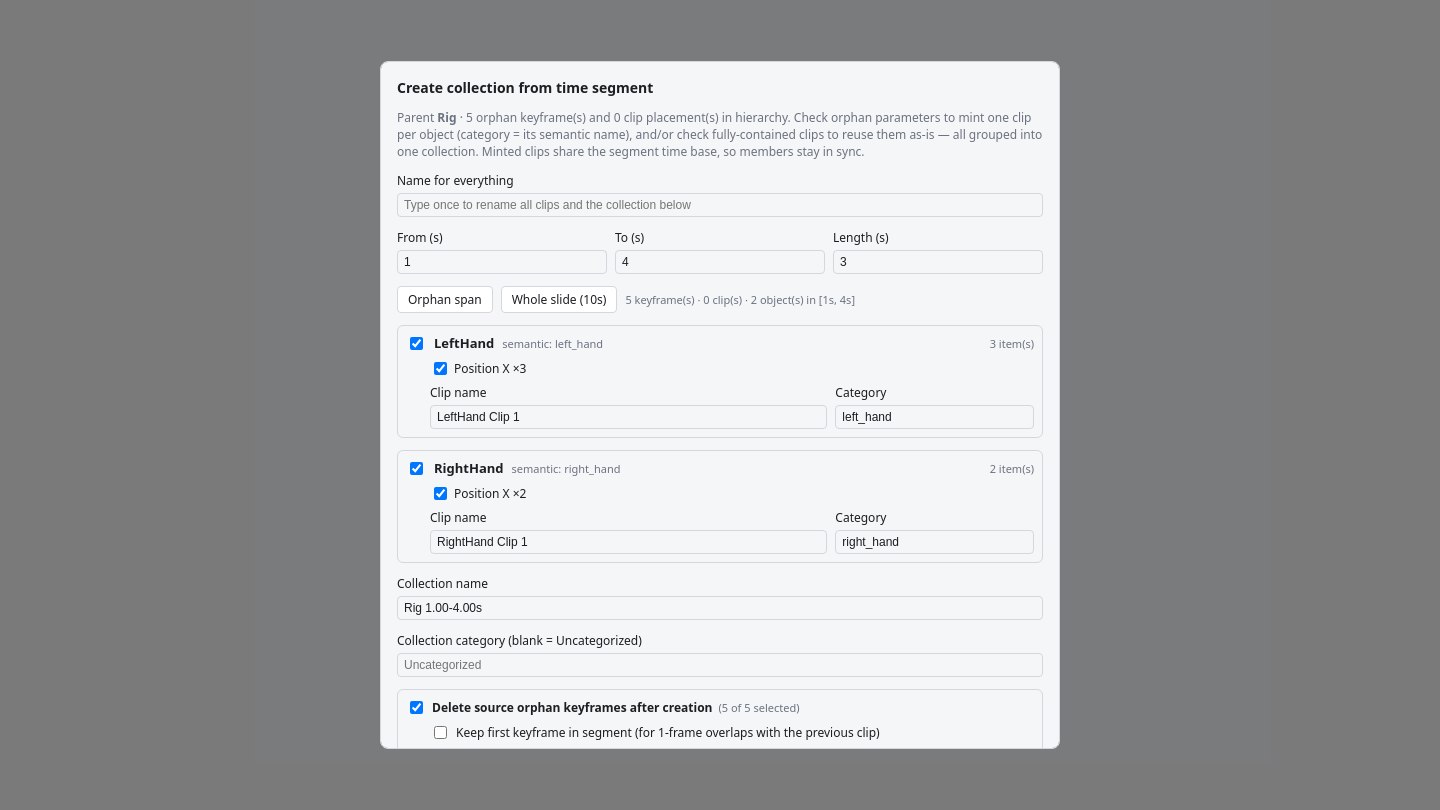
Scenario: TimeSegmentToCollectionModal › keeps From/To/Length in sync
Expected: the element with test id "segment-object-nA" is shown, [397,325,1043,438]
Replace the text in the field with test id "segment-length-input" with "1" at (938, 262), box [833,250,1043,274]
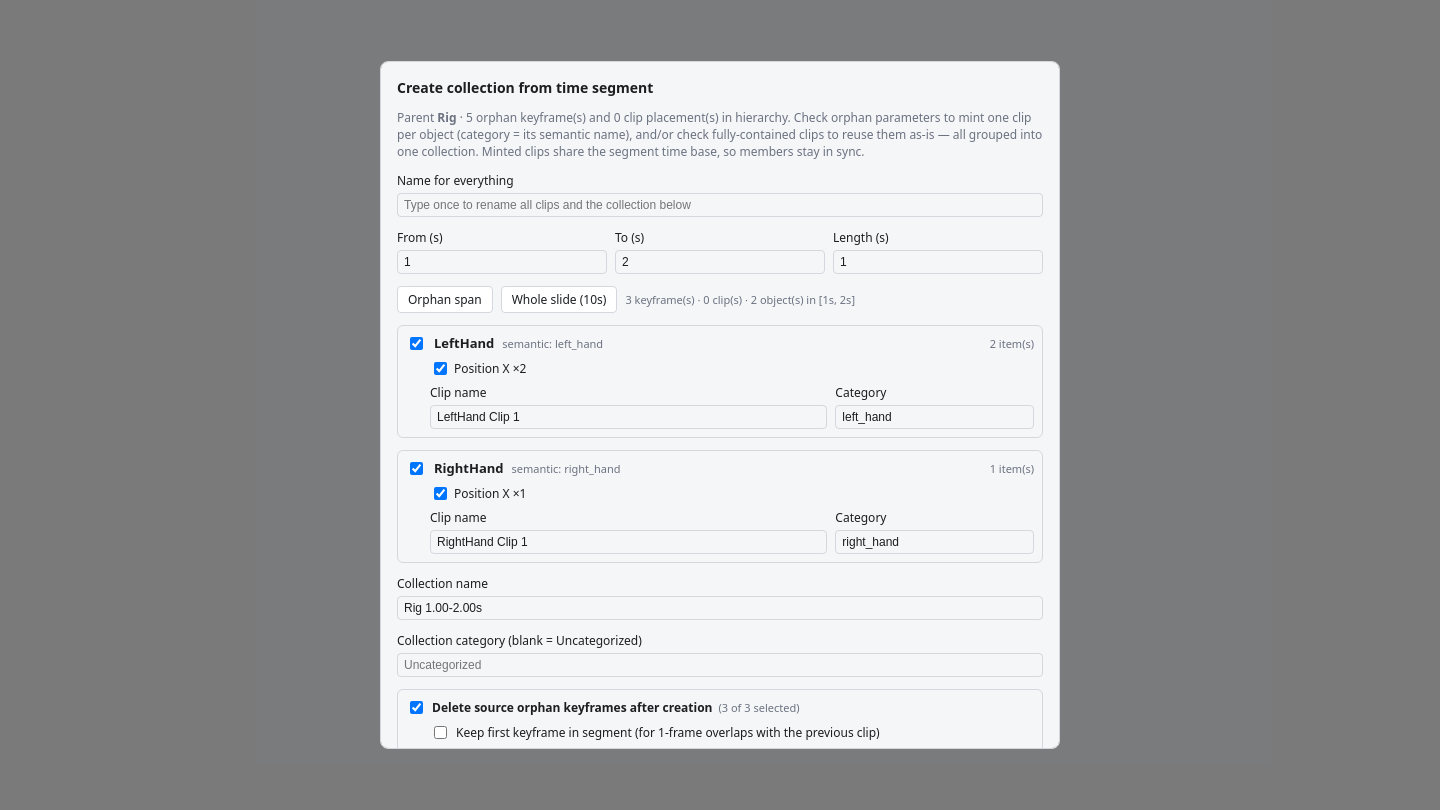
Result: the field with test id "segment-to-input" holds "2"
Replace the text in the field with test id "segment-to-input" with "3" at (720, 262), box [615,250,825,274]
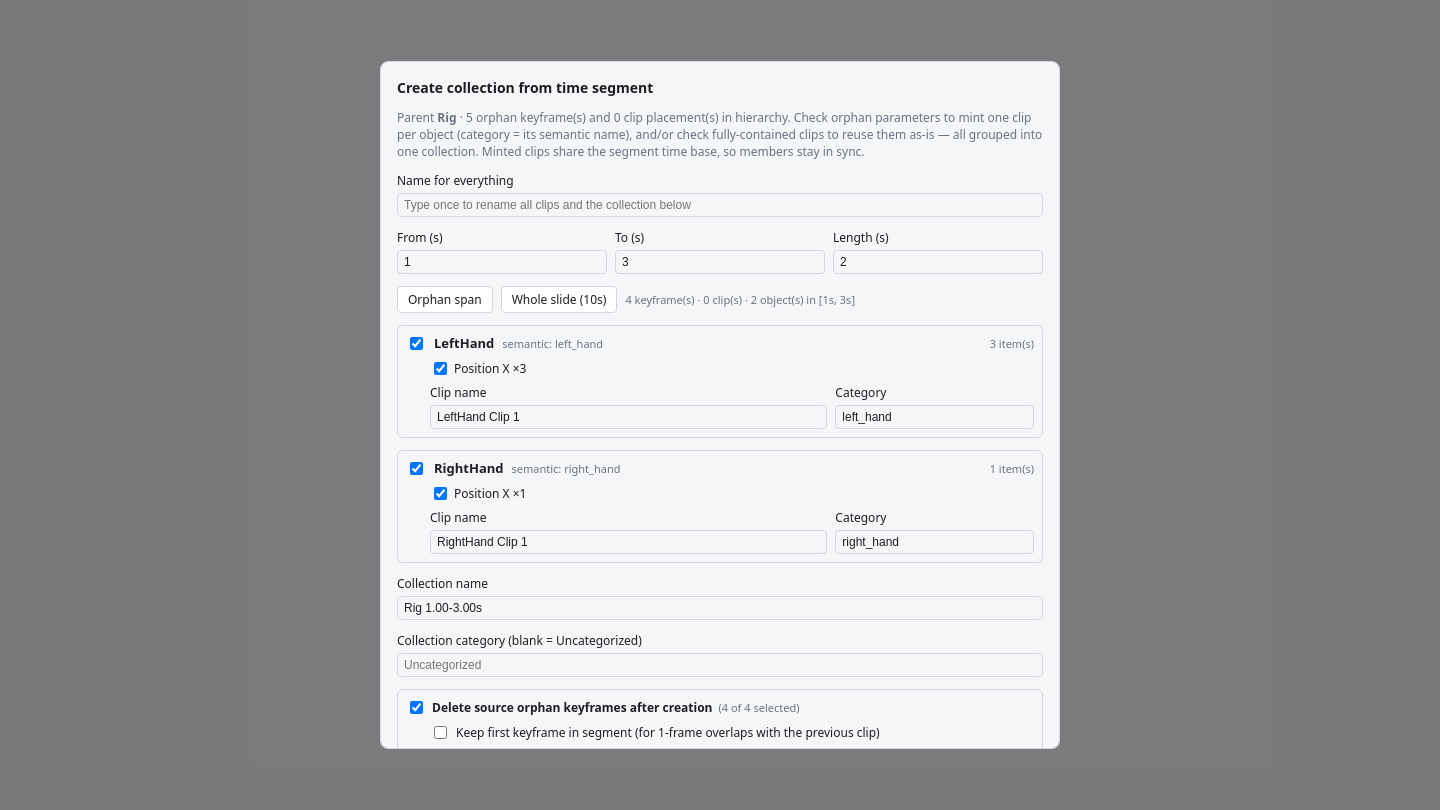
Result: the field with test id "segment-length-input" holds "2" at [833,250,1043,274]
